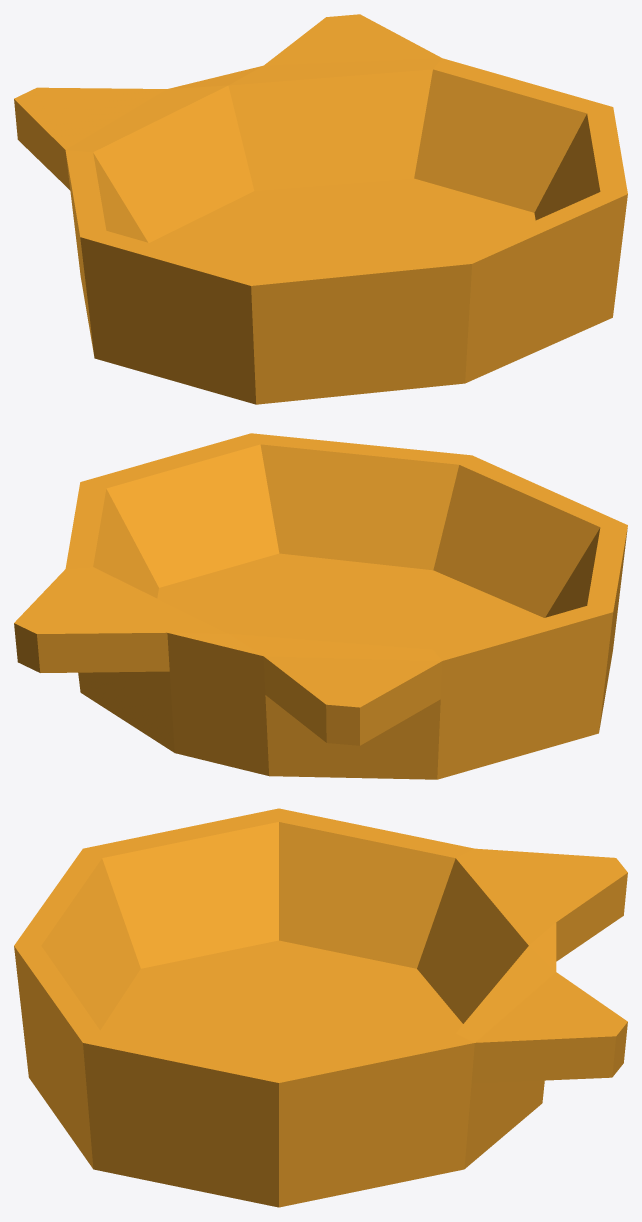
File: SM_Bowl_Cat_A.fbx
3 views of the same model, one above another, from view 1: azimuth 30°, elevation 25°; view 2: azimuth 150°, elevation 25°; view 3: azimuth 270°, elevation 25° (orthographic). The views are drawn at different scales.
Parts seen in each view (by area): view 1: SM_Bowl_Cat_A; view 2: SM_Bowl_Cat_A; view 3: SM_Bowl_Cat_A.
Part boxes in pixels (<box>): SM_Bowl_Cat_A: <box>14,14,627,404</box>; SM_Bowl_Cat_A: <box>14,433,627,779</box>; SM_Bowl_Cat_A: <box>14,808,627,1207</box>.
Size of the model in its own units: 0.1725 by 0.039 by 0.1629.
